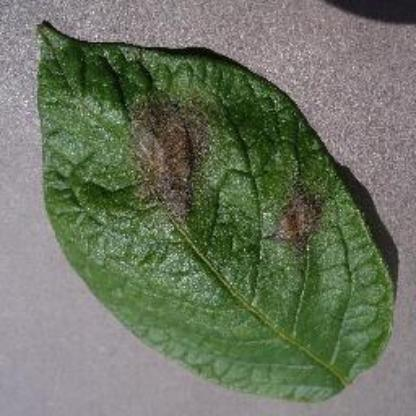Late-Blight: (29, 19, 401, 402)
